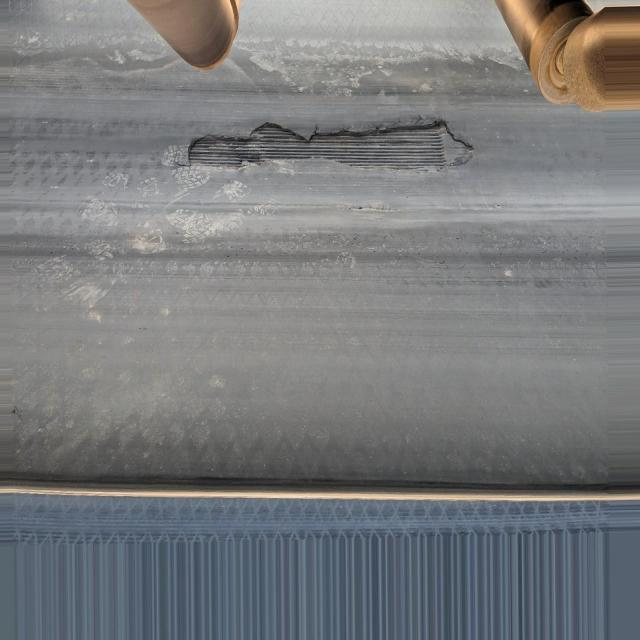Roller: (498, 0, 640, 105), (127, 1, 237, 71)
Tear: (181, 107, 479, 180)
